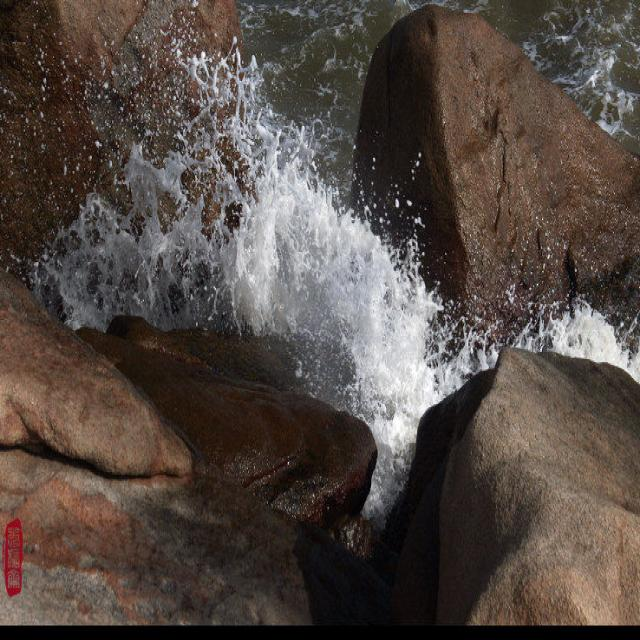reef: (109, 310, 640, 583), (329, 0, 640, 327)
